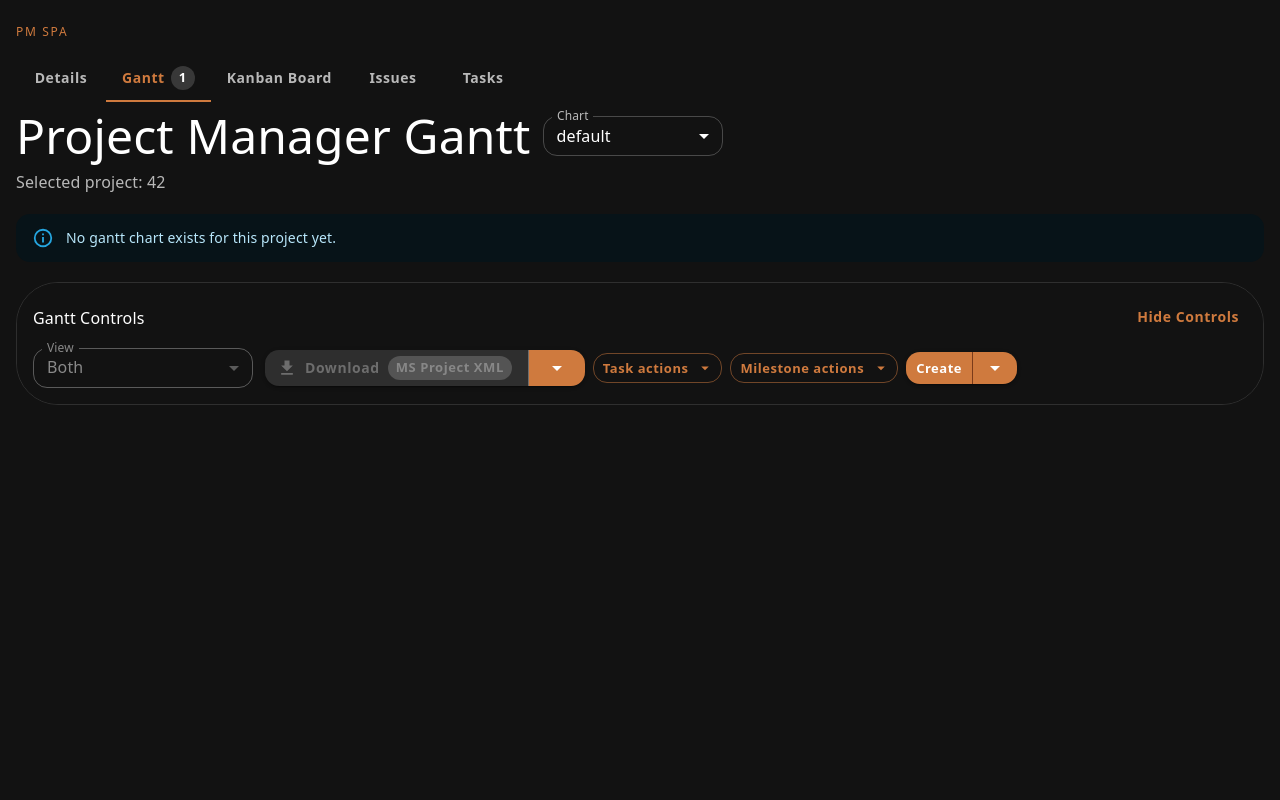
Test: ProjectManagerGanttPage › creates a default chart after clicking Create when no chart exists
This screenshot has width=1280, height=800.
Click the button "Create": (940, 368) [906, 352, 973, 384]
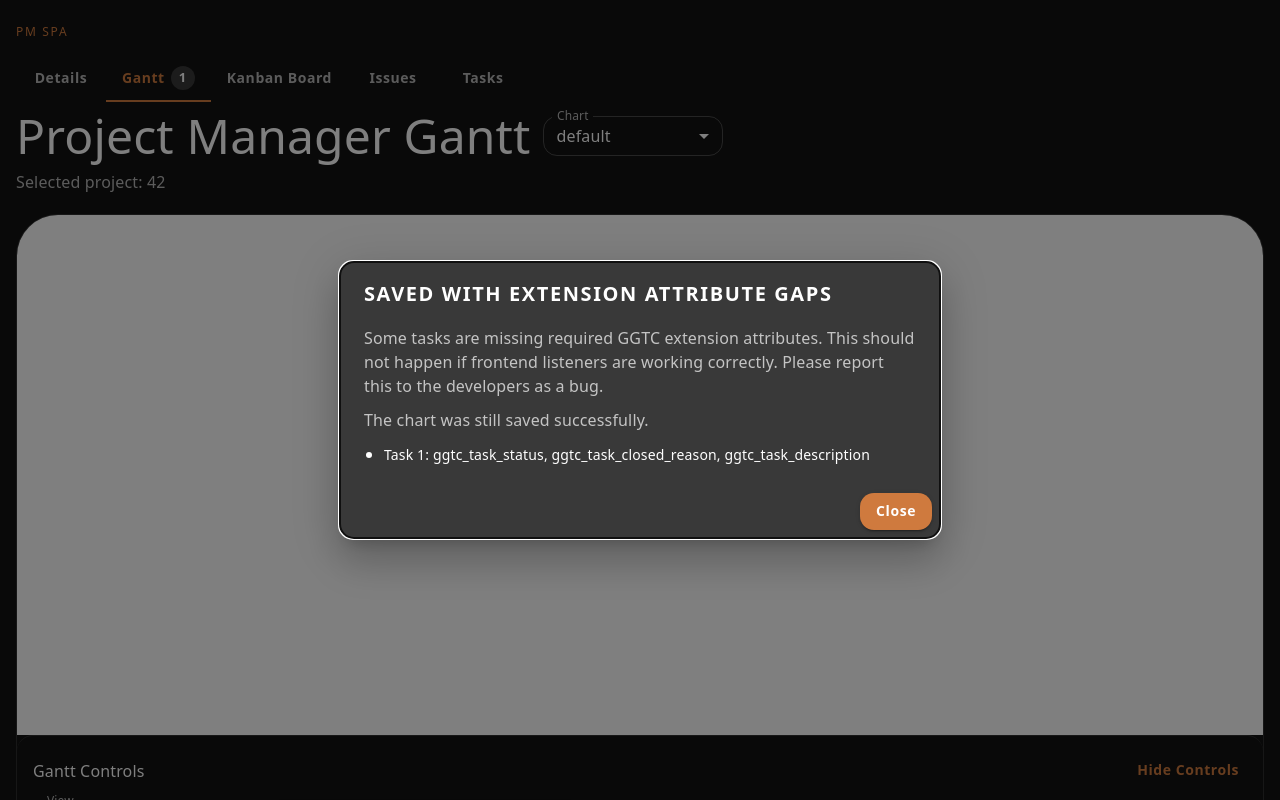
Expected: the text "No gantt chart exists for this project yet." is gone
